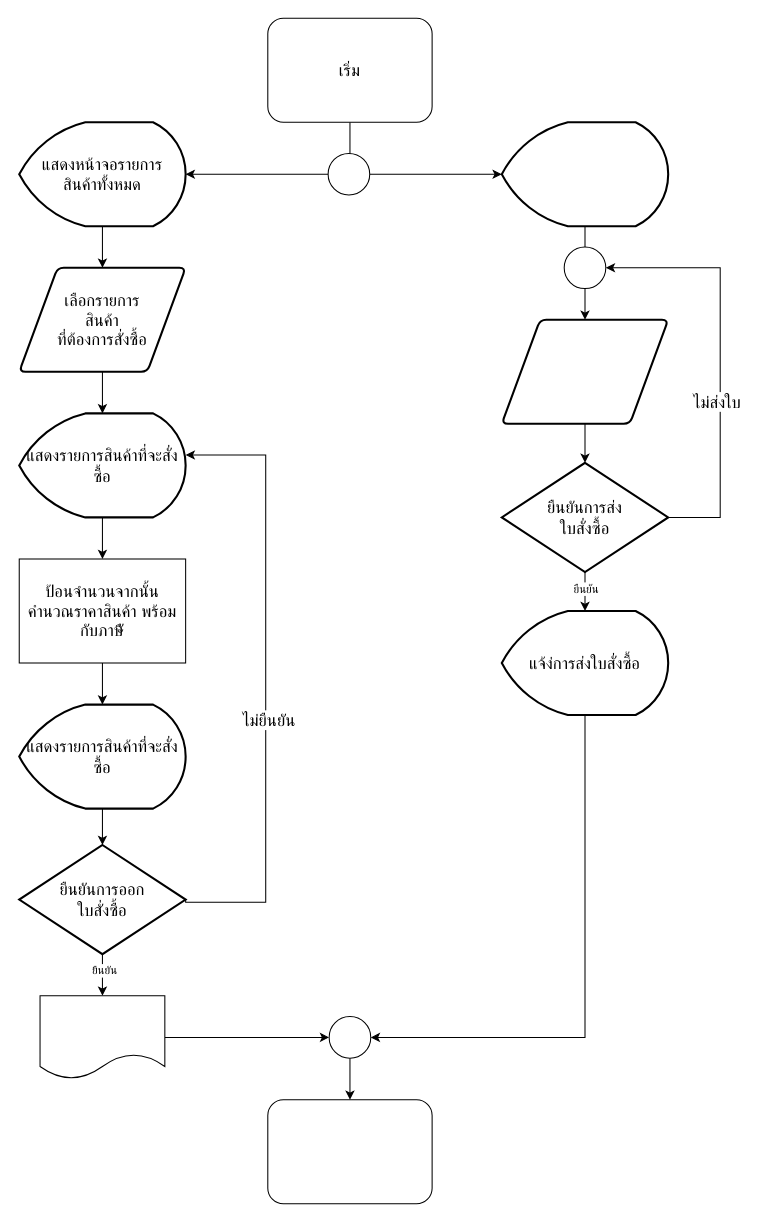
Image size: 758x1222. Some labels were removed from this diagram. The centre of each missing label's shape, as x and y in pixels:
จบการทำงาน: point (349, 1151)
พิมพ์ใบสั่งซื้อ: point (102, 1037)
เลือกใบสั่งซื้อที่ ต้องการ ยืนยันส่ง ใบสั่งซื้อ: point (584, 371)
แสดงหน้าจอรายการ ใบสั่งซื้อทั้งหมด: point (584, 174)
